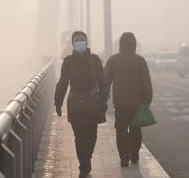person: (54, 30, 109, 177), (100, 30, 158, 168)
